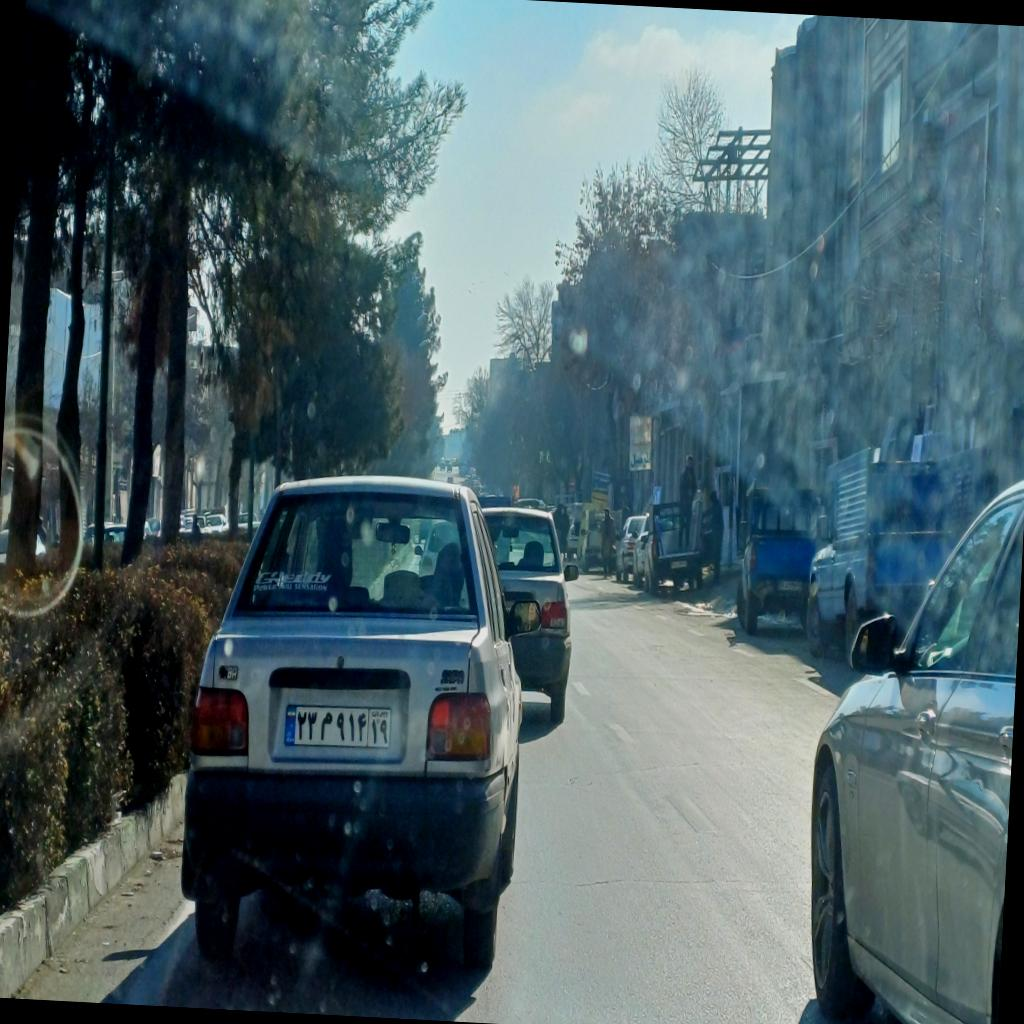Plates: (284, 702, 391, 752)
